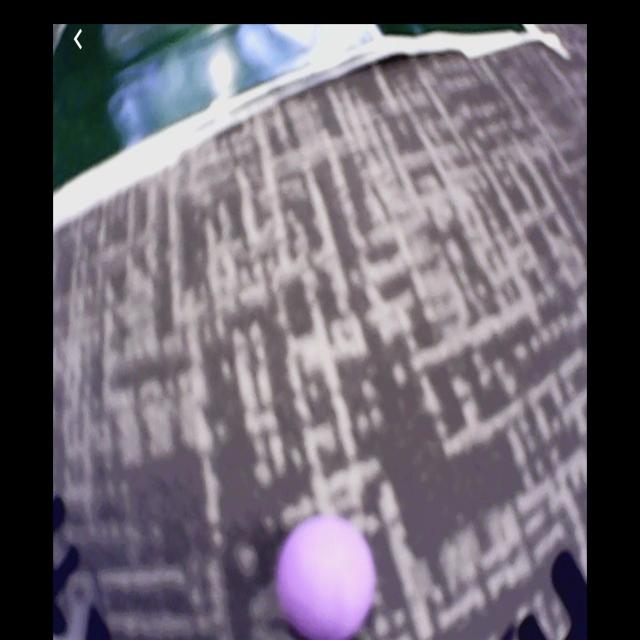ball: (279, 518, 377, 640)
